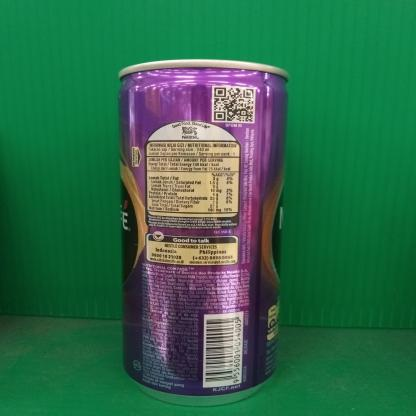mouse: (115, 56, 293, 403)
